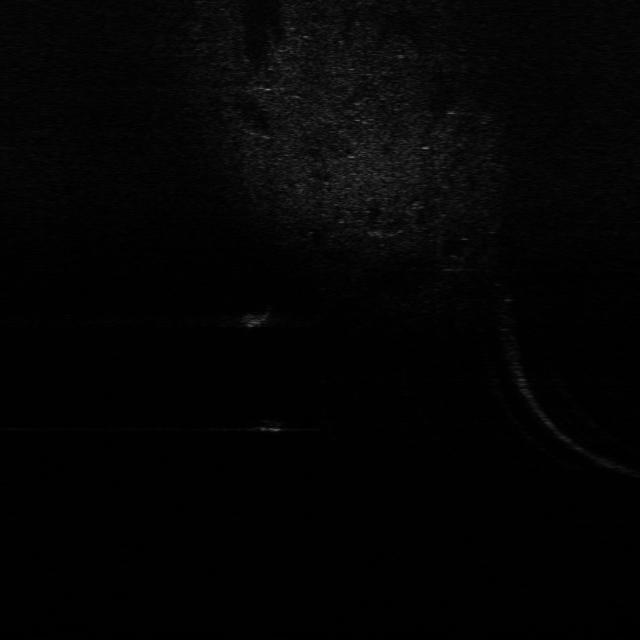cube: (253, 417, 287, 435)
square cage: (240, 301, 274, 328)
